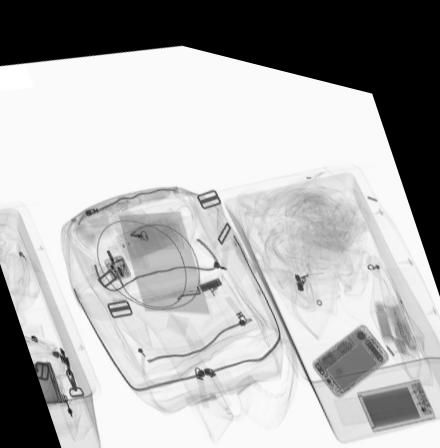Powerbank: (354, 356, 438, 411)
